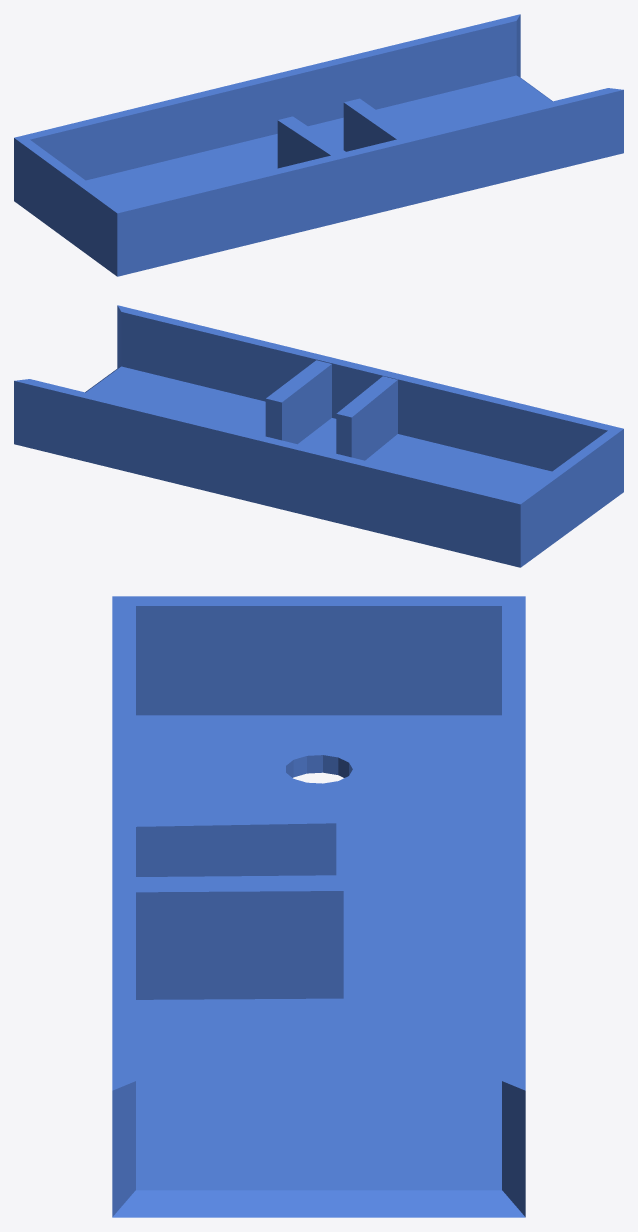
File: platform 1.fbx
The picture shows the model from 3 angles, top to bottom: view 1: azimuth 30°, elevation 25°; view 2: azimuth 150°, elevation 25°; view 3: azimuth 270°, elevation 25°; orthographic projection. The views are drawn at different scales.
Visible parts, largest first — view 1: Cube; view 2: Cube; view 3: Cube.
Boxes of the visible parts, box(x1,y1,x2,y2) form: Cube: box(14, 14, 623, 276); Cube: box(14, 305, 623, 567); Cube: box(112, 596, 525, 1217).
Bounding box in the file's own units: 761 × 91 × 269.
